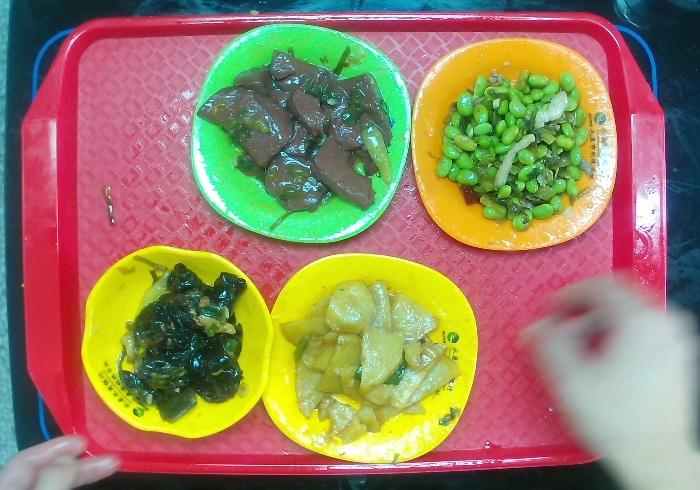YKMZ-Huang_Se_Ao_Bian_Wan: (79, 243, 274, 441)
YKMZ-Huang_Se_Fang_Die: (259, 251, 479, 466)
YKMZ-Ju_Se_Fang_Die: (410, 37, 620, 253)
YKMZ-Lv_Se_Fang_Die: (187, 21, 413, 247)
